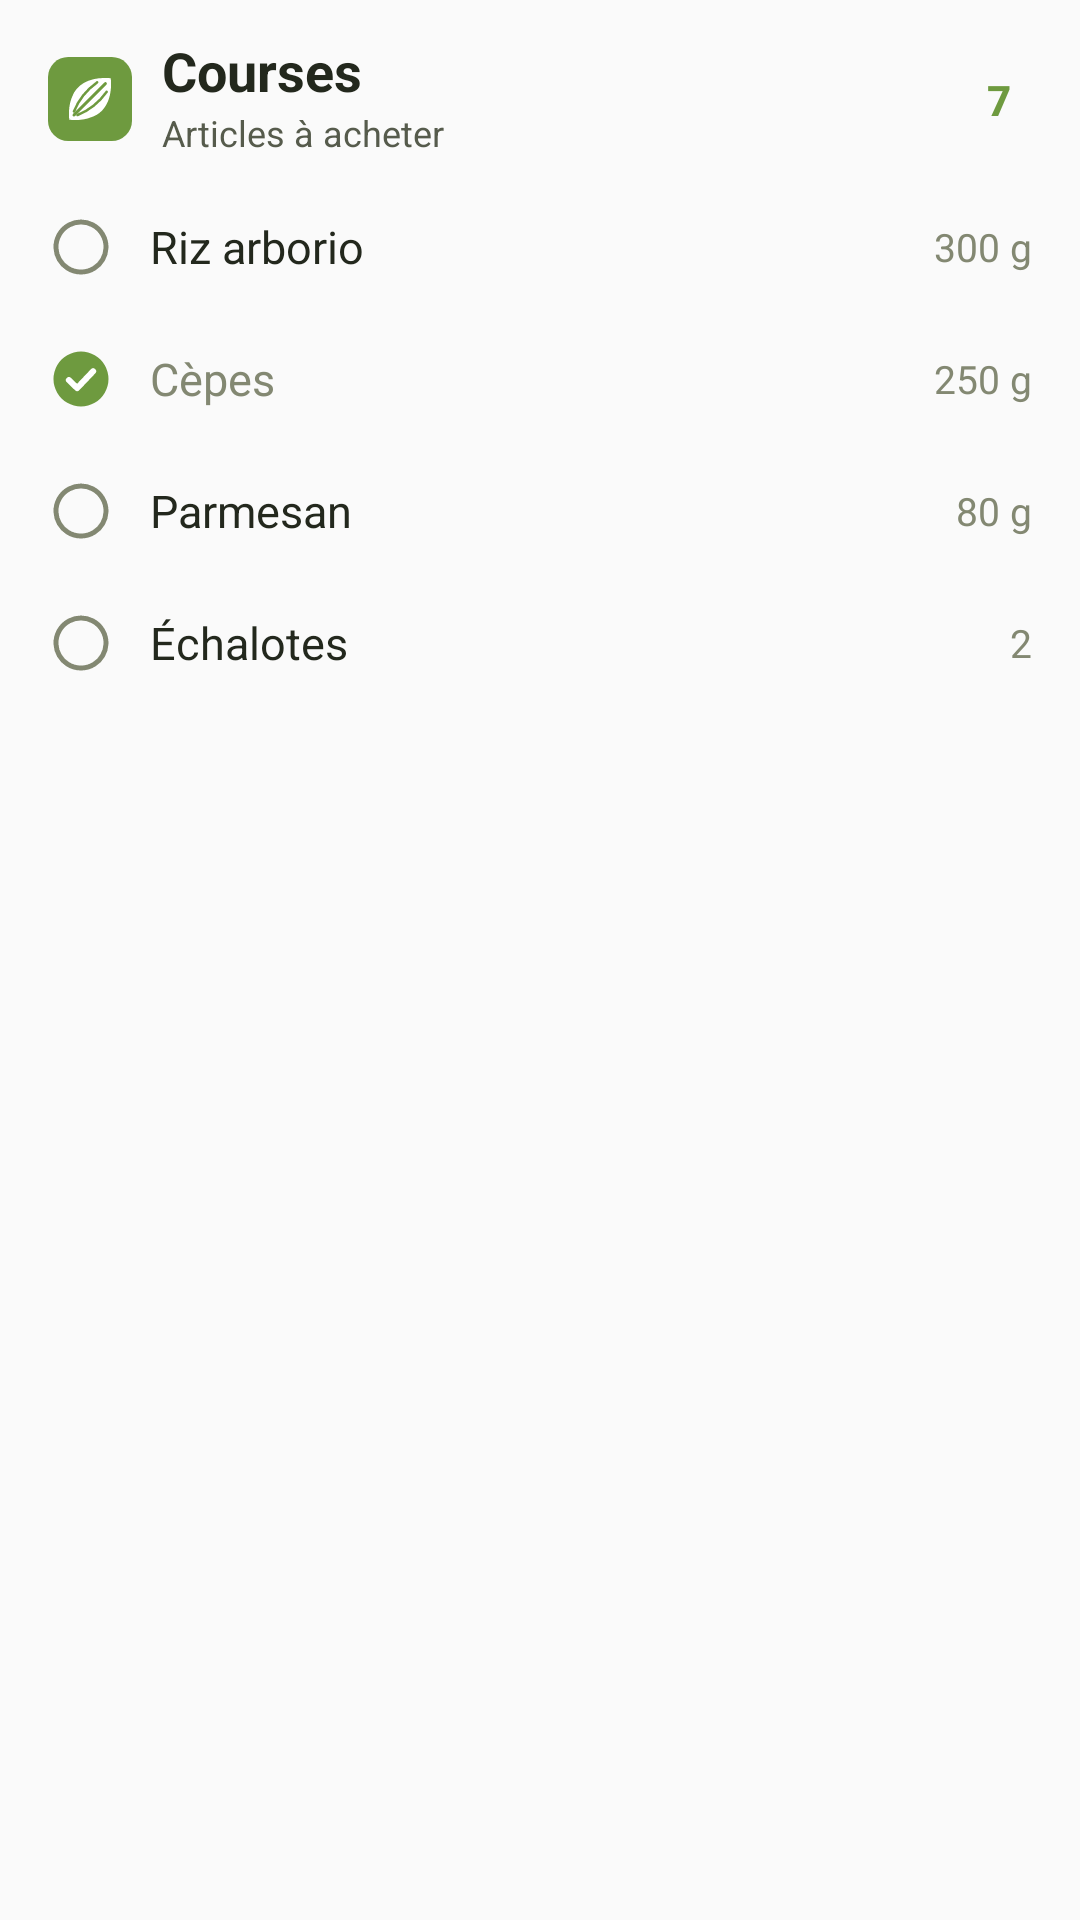

Icons on this 1080px×1920px Android screen, each with the point to tap as point (x, y):
widget check off: point (81, 247), point (81, 511), point (81, 643)
widget check on: point (81, 379)
